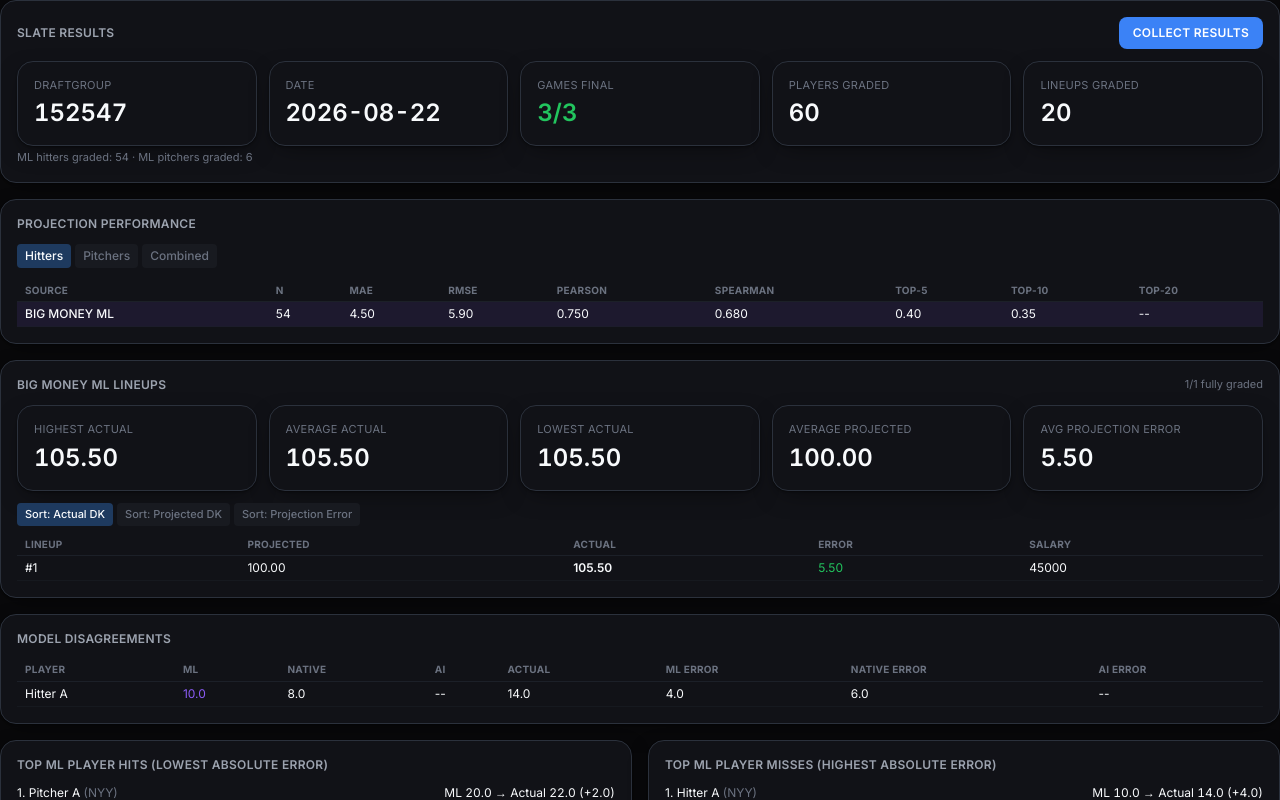
Test: MlForwardResultsPanel › switches PROJECTION PERFORMANCE tabs between hitters/pitchers/combined
The image size is (1280, 800).
Expected: the text "4.50" is shown, [342,302,440,327]
Click the tab "pitchers" at {"x": 107, "y": 256}, box [75,244,138,268]
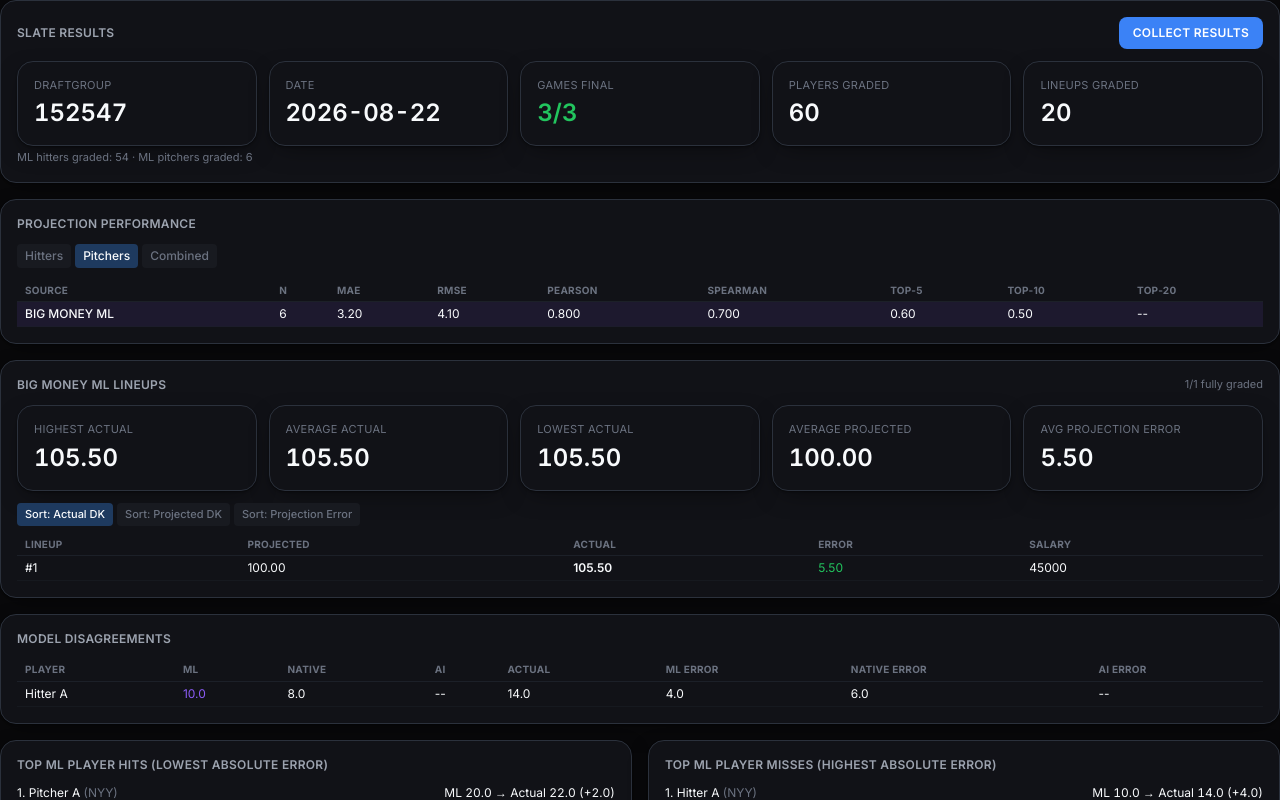
Result: the text "3.20" is shown at [329,302,429,327]
